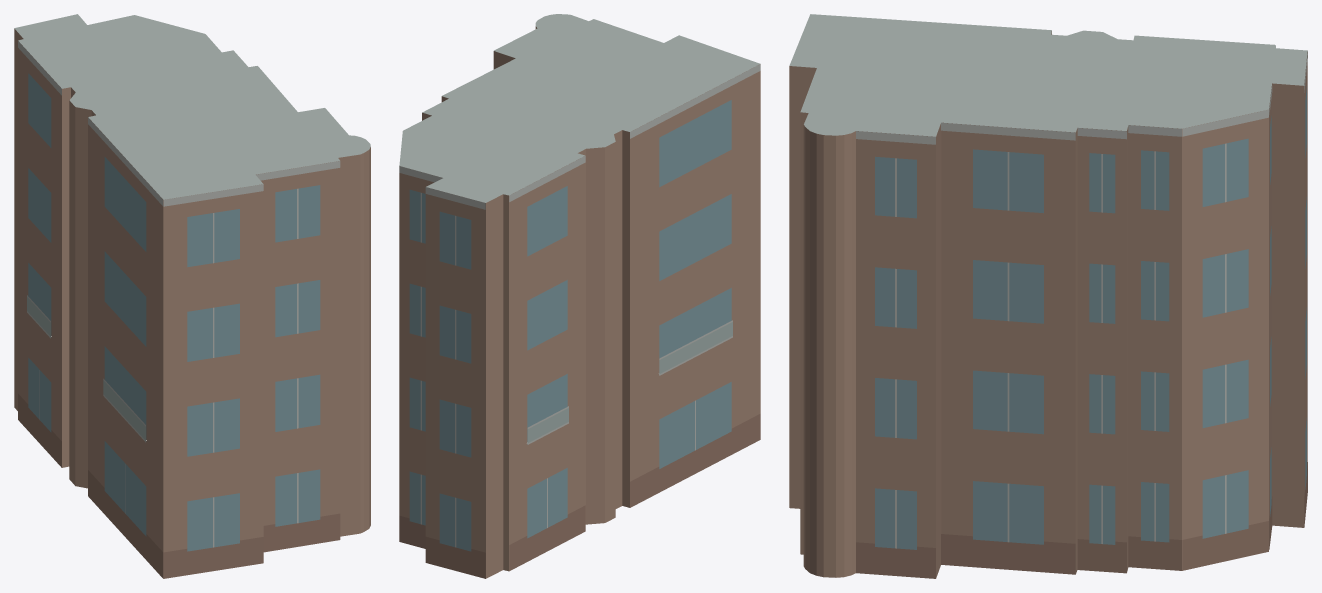
Rendered from survey-upis-32518298.glb.
3 views of the same model, side by side, from view 1: azimuth 30°, elevation 25°; view 2: azimuth 150°, elevation 25°; view 3: azimuth 270°, elevation 25° (orthographic). The views are drawn at different scales.
Parts seen in each view (by area): view 1: survey-upis-32518298.tmp; view 2: survey-upis-32518298.tmp; view 3: survey-upis-32518298.tmp.
Boxes of the visible parts, left/top/right/bottom form: survey-upis-32518298.tmp: left=14, top=14, right=370, bottom=578; survey-upis-32518298.tmp: left=399, top=14, right=760, bottom=578; survey-upis-32518298.tmp: left=789, top=14, right=1307, bottom=578.
Size of the model in its own units: 7.92 by 13.3 by 14.14.
